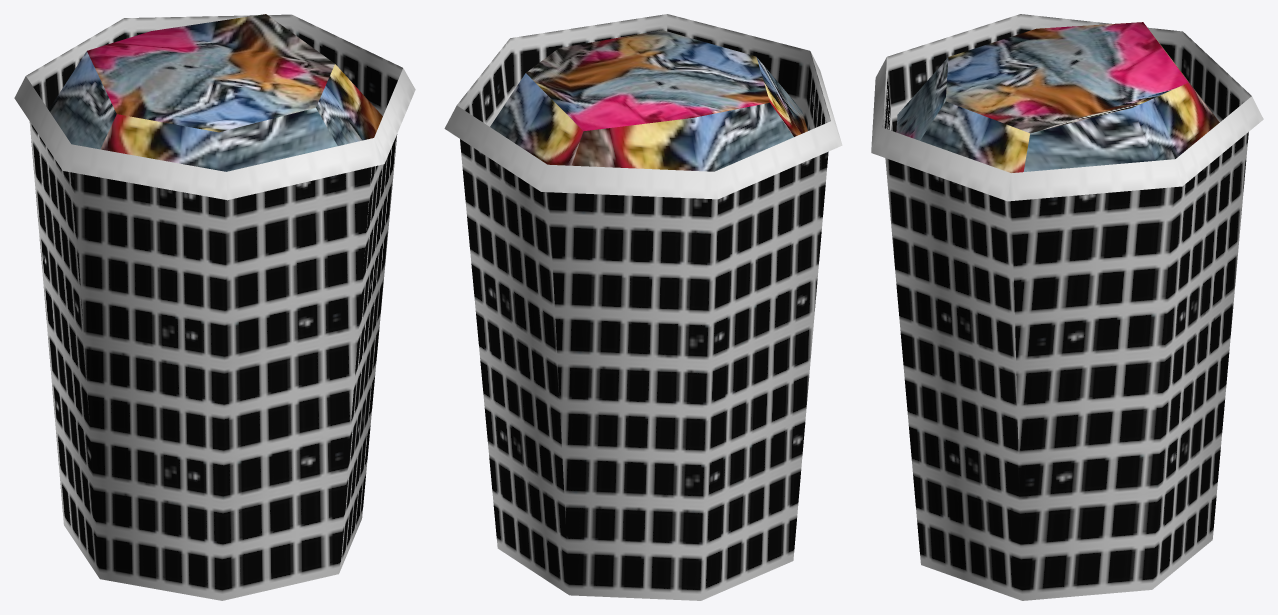
3 renders of one model, left to right at view 1: azimuth 30°, elevation 25°; view 2: azimuth 150°, elevation 25°; view 3: azimuth 270°, elevation 25°, orthographic.
Visible parts, largest first — view 1: Basket001_Plastic_10_0, Dirty__clothes001_Dirty__clothes_0; view 2: Basket001_Plastic_10_0, Dirty__clothes001_Dirty__clothes_0; view 3: Basket001_Plastic_10_0, Dirty__clothes001_Dirty__clothes_0.
Boxes of the visible parts, x1,y1,x2,y2 form: Basket001_Plastic_10_0: (14, 14, 415, 600); Dirty__clothes001_Dirty__clothes_0: (49, 14, 382, 171); Basket001_Plastic_10_0: (444, 14, 842, 600); Dirty__clothes001_Dirty__clothes_0: (490, 30, 807, 171); Basket001_Plastic_10_0: (871, 14, 1263, 600); Dirty__clothes001_Dirty__clothes_0: (896, 22, 1219, 172).
Bounding box in the file's own units: 0.771 × 1.01 × 0.756.
Materials: 2 (2 with a texture image).
